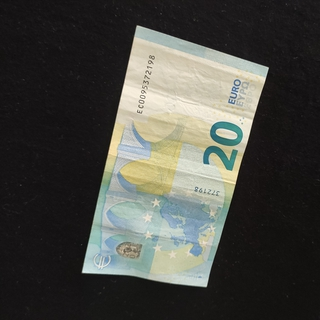20EUROBack: (81, 25, 269, 288)
